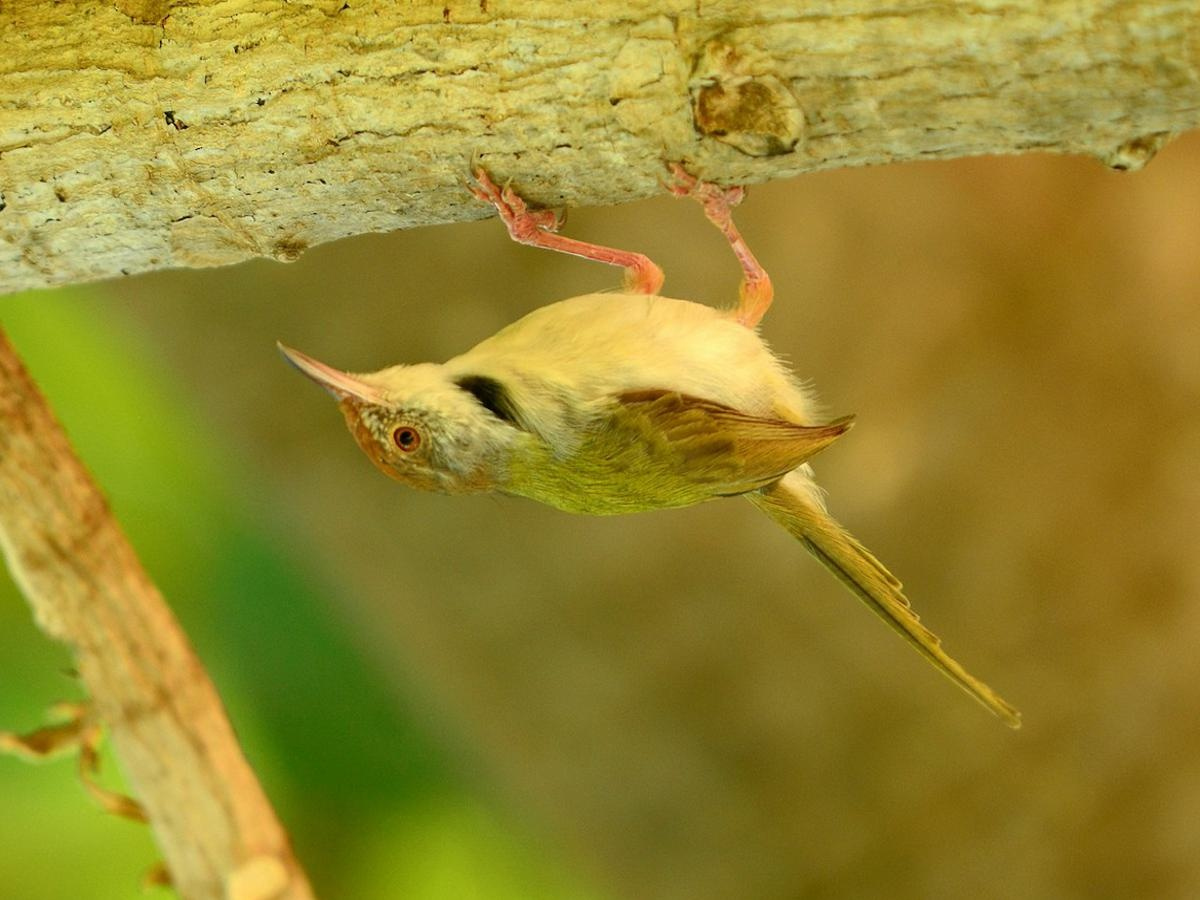tailorbird: (265, 178, 1063, 745)
